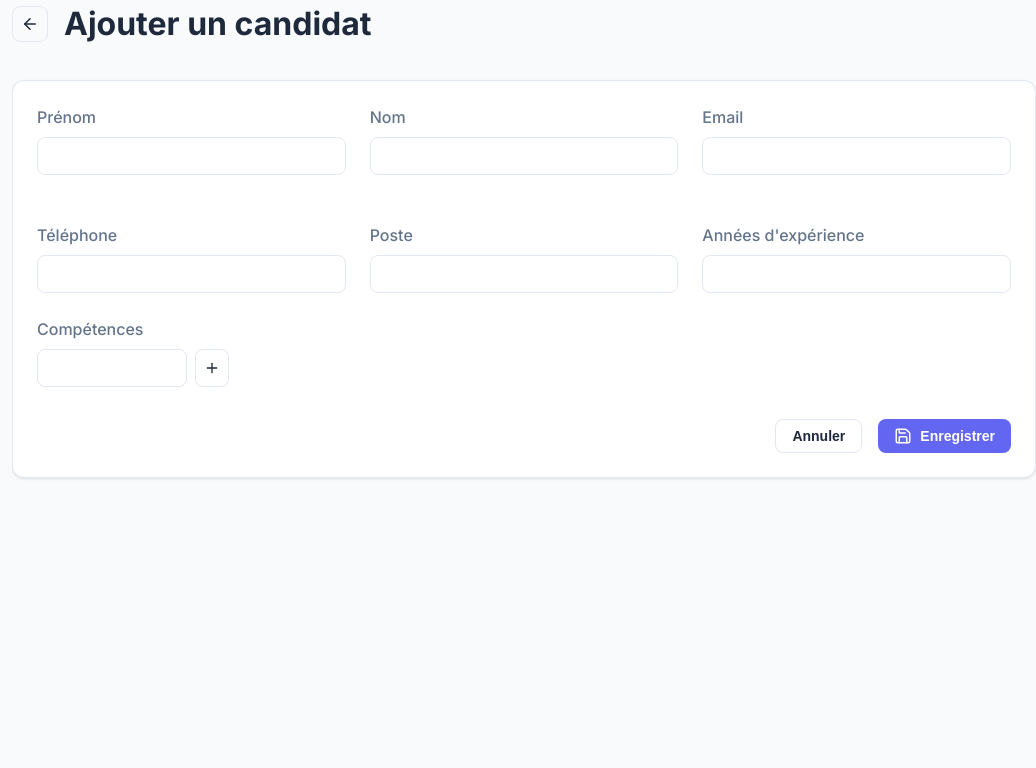
Test: CandidateFormPage › shows validation errors for empty fields
Click the button "Enregistrer" at (945, 436), box [878, 419, 1011, 453]
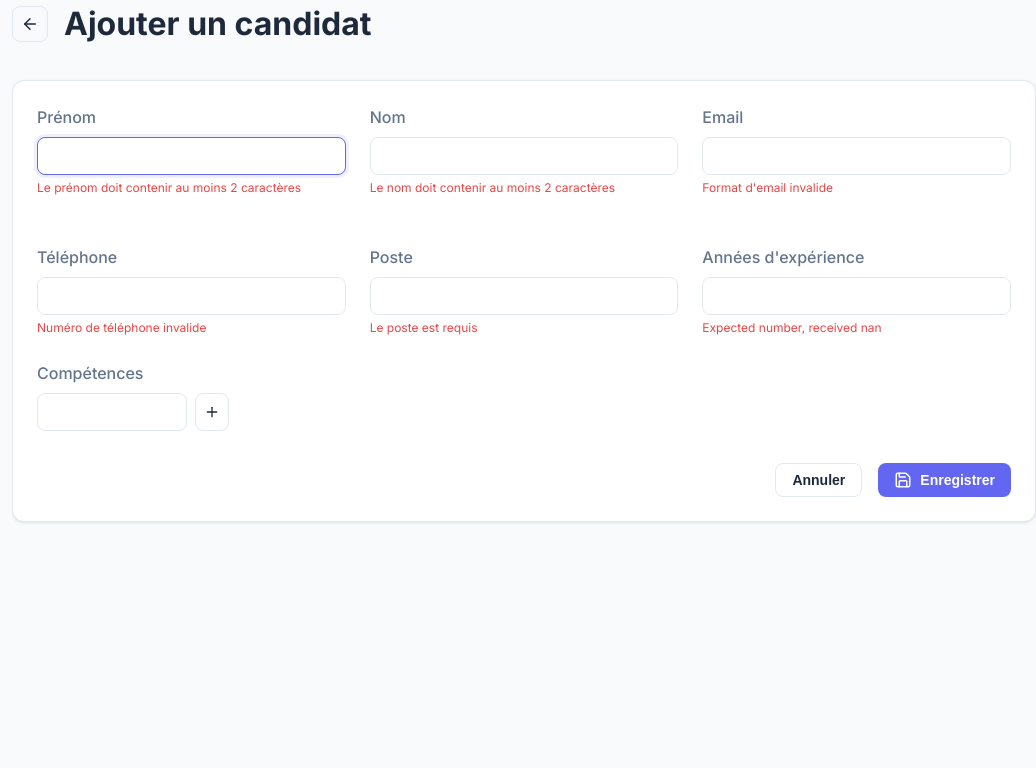
Check: the text "Le prénom doit contenir au moins 2 caractères" is shown, box [37, 179, 346, 197]
Check: the text "Le nom doit contenir au moins 2 caractères" is shown, box [370, 180, 615, 195]
Check: the text "Format d'email invalide" is shown, box [702, 180, 833, 195]
